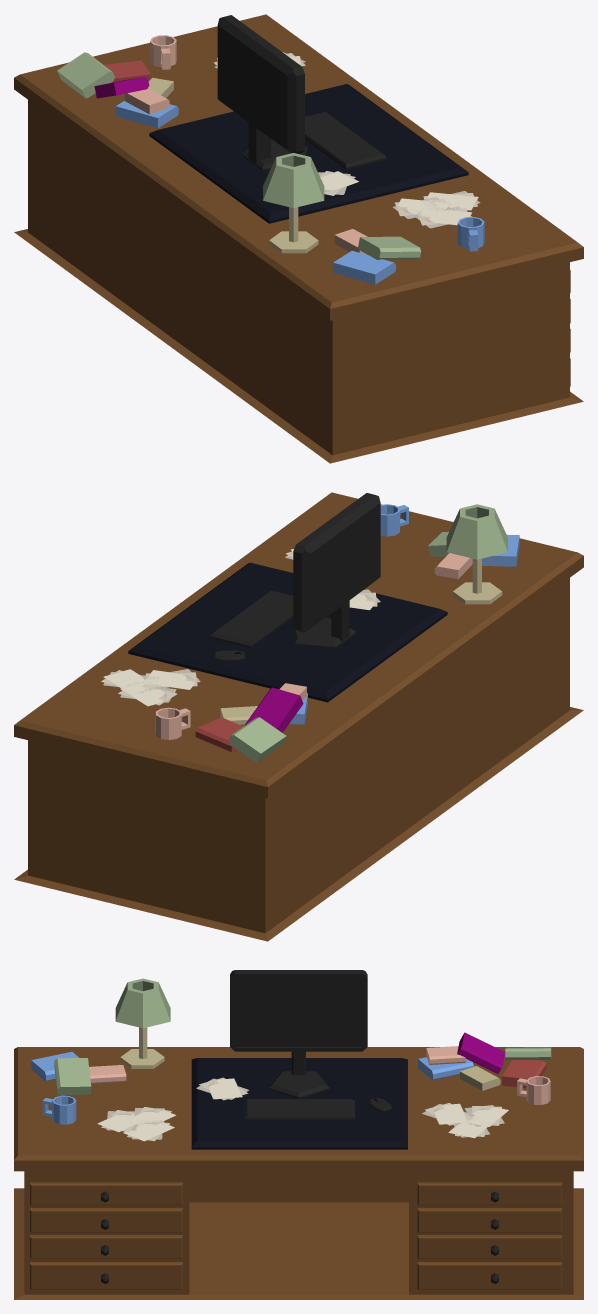
Rendered from geo_baronDeskMessy_01.fbx.
3 renders of one model, top to bottom at view 1: azimuth 30°, elevation 25°; view 2: azimuth 150°, elevation 25°; view 3: azimuth 270°, elevation 25°, orthographic. The views are drawn at different scales.
Visible parts, largest first — view 1: geo_desk_01, geo_DeskMatt_01, geo_Computer_01, geo_lampShade_02, geo_keyboard_01, geo_book_08, geo_book_010, geo_book_011, geo_book_04, pCylinder1, geo_PaperMess_07, pCylinder2 (+7 smaller); view 2: geo_desk_01, geo_DeskMatt_01, geo_Computer_01, geo_lampShade_02, geo_keyboard_01, geo_book_08, geo_book_05, geo_ComputerStand_01, pCylinder2, geo_book_07, geo_PaperMess_01, geo_PaperMess_02 (+5 smaller); view 3: geo_desk_01, geo_DeskMatt_01, geo_Computer_01, geo_keyboard_01, geo_lampShade_02, geo_book_011, geo_ComputerStand_01, geo_book_05, geo_book_07, pCylinder1, pCylinder2, geo_PaperMess_04 (+13 smaller).
Part boxes in pixels (left/top/right/bottom): geo_desk_01: left=14, top=14, right=583, bottom=463; geo_DeskMatt_01: left=149, top=84, right=468, bottom=223; geo_Computer_01: left=217, top=15, right=304, bottom=163; geo_lampShade_02: left=263, top=153, right=324, bottom=208; geo_keyboard_01: left=305, top=112, right=386, bottom=169; geo_book_08: left=57, top=52, right=114, bottom=98; geo_book_010: left=333, top=250, right=395, bottom=284; geo_book_011: left=357, top=236, right=421, bottom=259; geo_book_04: left=115, top=101, right=178, bottom=128; pCylinder1: left=457, top=217, right=484, bottom=251; geo_PaperMess_07: left=415, top=206, right=471, bottom=228; pCylinder2: left=150, top=35, right=176, bottom=69; geo_desk_01: left=14, top=492, right=583, bottom=941; geo_DeskMatt_01: left=128, top=562, right=447, bottom=702; geo_Computer_01: left=293, top=493, right=380, bottom=641; geo_lampShade_02: left=446, top=504, right=507, bottom=559; geo_keyboard_01: left=210, top=590, right=293, bottom=647; geo_book_08: left=228, top=717, right=286, bottom=762; geo_book_05: left=245, top=687, right=303, bottom=732; geo_ComputerStand_01: left=290, top=617, right=356, bottom=648; pCylinder2: left=155, top=707, right=190, bottom=739; geo_book_07: left=195, top=717, right=243, bottom=752; geo_PaperMess_01: left=142, top=669, right=200, bottom=689; geo_PaperMess_02: left=118, top=681, right=177, bottom=706; geo_desk_01: left=14, top=1047, right=583, bottom=1299; geo_DeskMatt_01: left=191, top=1058, right=407, bottom=1149; geo_Computer_01: left=230, top=970, right=367, bottom=1074; geo_keyboard_01: left=244, top=1099, right=354, bottom=1120; geo_lampShade_02: left=115, top=978, right=170, bottom=1028; geo_book_011: left=54, top=1058, right=91, bottom=1095; geo_ComputerStand_01: left=268, top=1071, right=329, bottom=1098; geo_book_05: left=457, top=1032, right=505, bottom=1073; geo_book_07: left=502, top=1060, right=546, bottom=1088; pCylinder1: left=42, top=1095, right=76, bottom=1124; pCylinder2: left=517, top=1076, right=550, bottom=1104; geo_PaperMess_04: left=196, top=1077, right=248, bottom=1100.
Size of the model in its own units: 95.21 by 98.91 by 200.
Materials: 13 (1 with a texture image).
